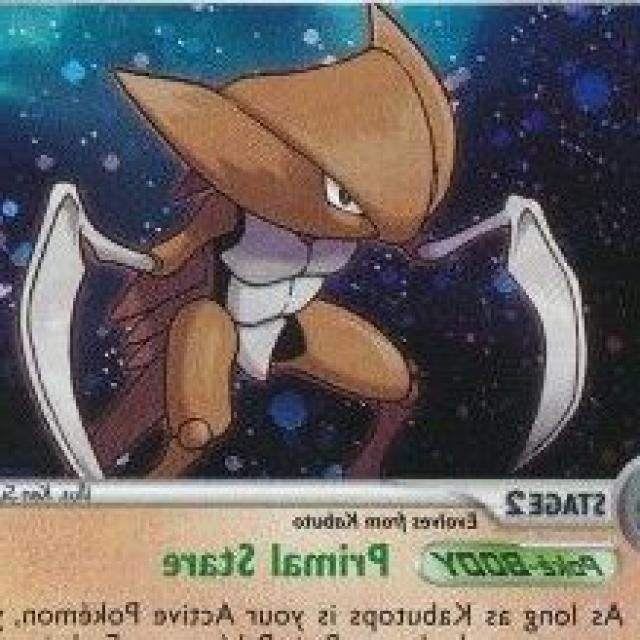Kabutops: (45, 46, 564, 482)
